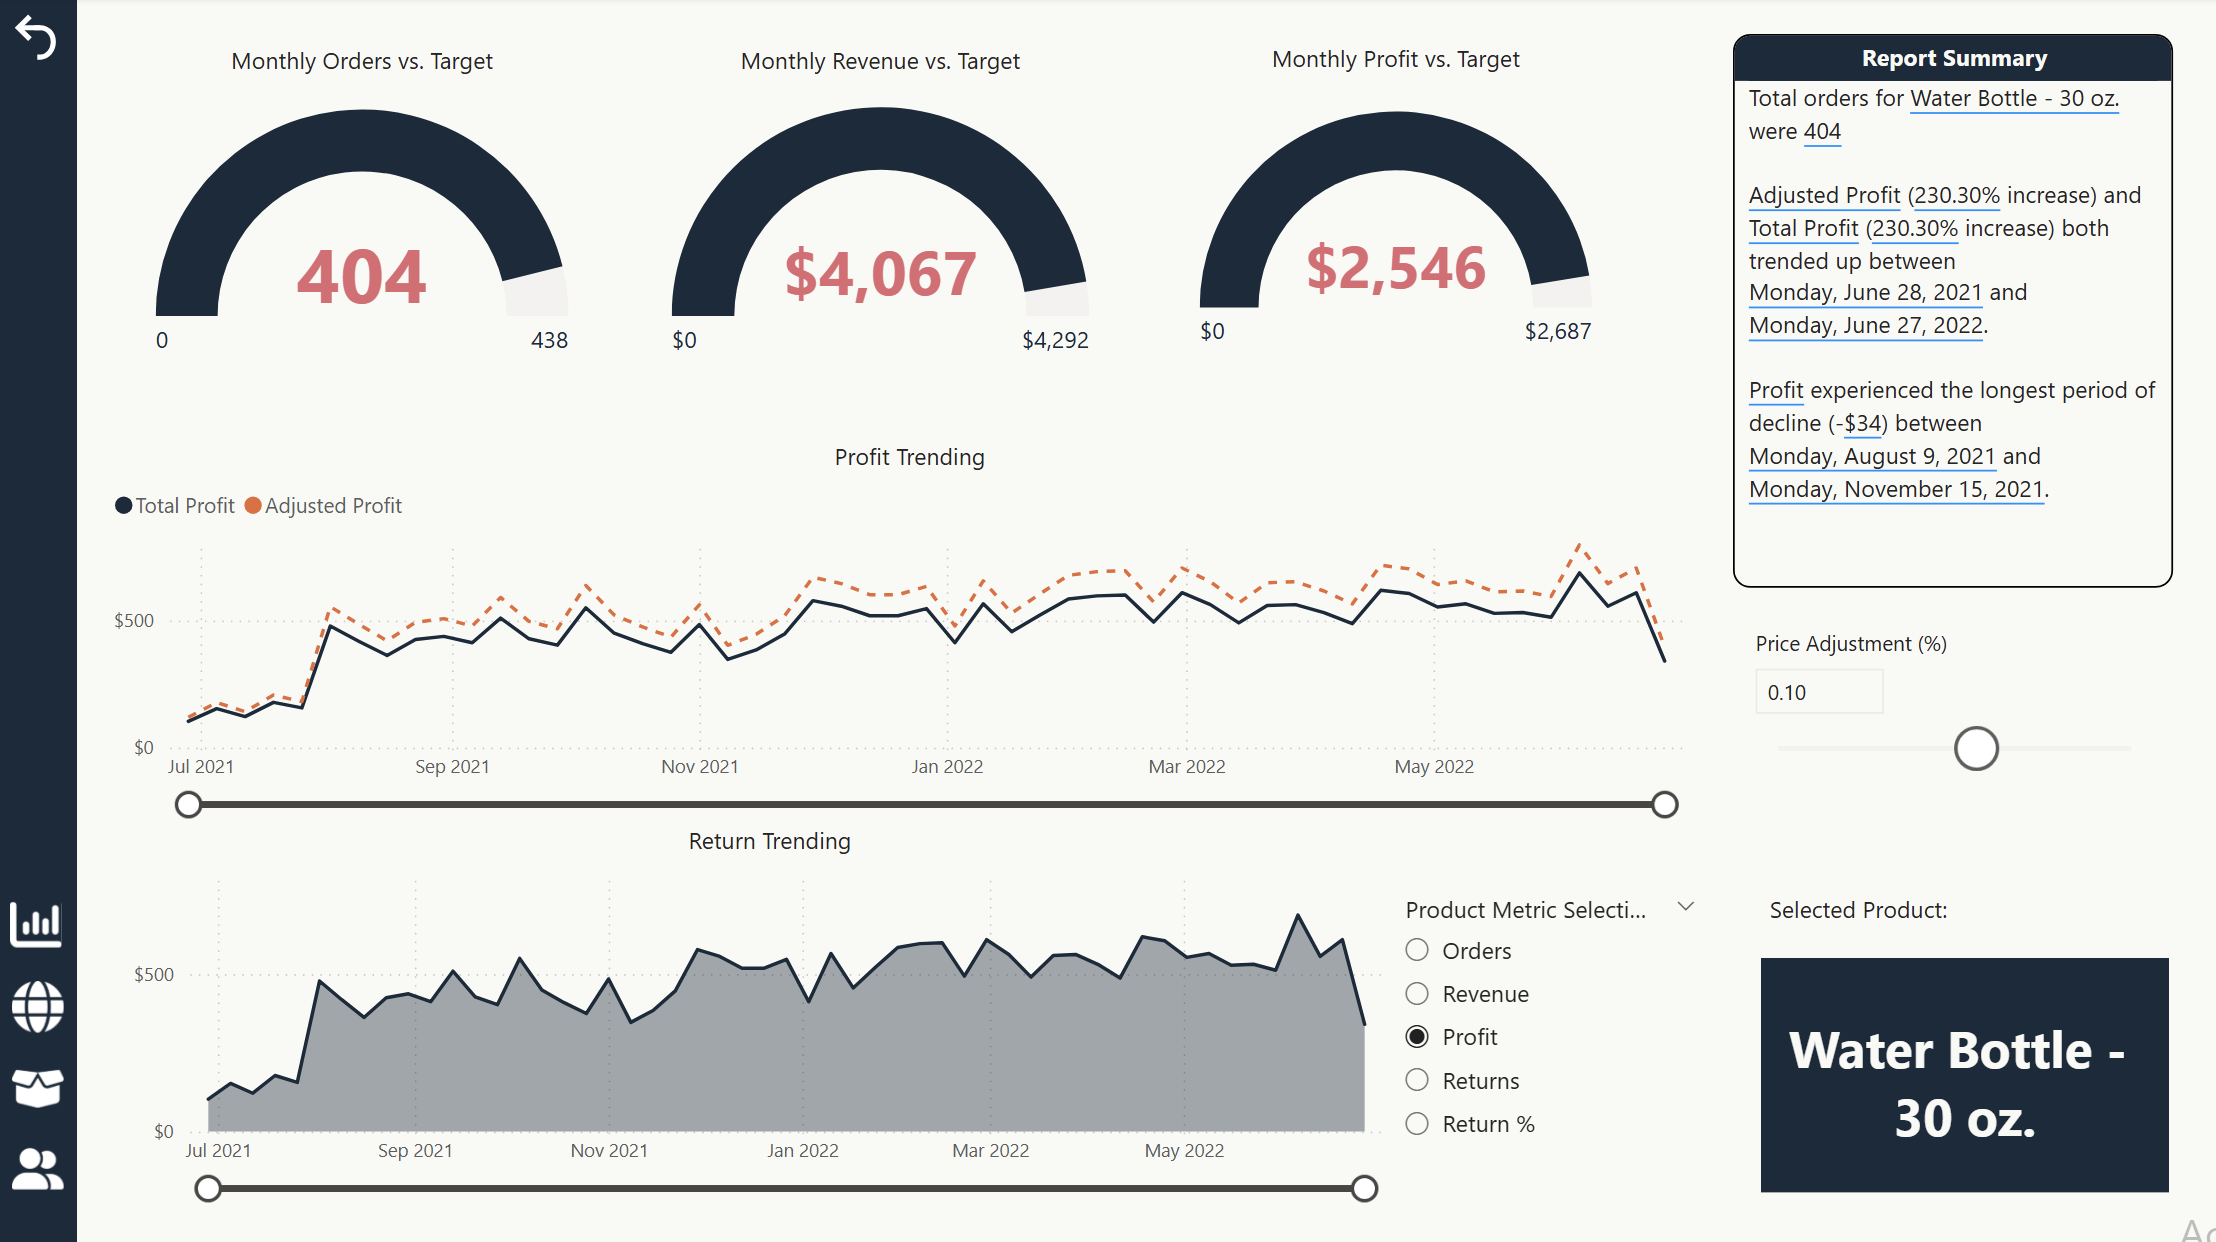

This screenshot's page, from the dashboard's own definition file:
{"tool":"powerbi","page":{"name":"Product Detail","canvas":[1280,720],"ordinal":2},"visuals":[{"type":"shape","box":[0,0.2,1280,719.8],"z":0},{"type":"actionButton","box":[2.5,516.7,45.6,37.8],"z":0,"group":"g1"},{"type":"shape","box":[0,0,45,720],"z":1000},{"type":"actionButton","box":[3.3,563.4,45.6,37.8],"z":1000,"group":"g1"},{"type":"gauge","title":"Monthly Orders vs. Target","fields":{"Y":["Measure Table.Total Orders"],"MaxValue":["Measure Table.Order Target"]},"box":[85.7,27.7,247.8,204.3],"z":2000},{"type":"actionButton","box":[3.3,611.1,45.6,37.8],"z":2000,"group":"g1"},{"type":"gauge","title":"Monthly Revenue vs. Target","fields":{"Y":["Measure Table.Total Revenue"],"MaxValue":["Measure Table.Revenue Target"]},"box":[382.3,27.7,250.5,203],"z":3000},{"type":"actionButton","box":[3.3,657.8,45.6,37.8],"z":3000,"group":"g1"},{"type":"gauge","title":"Monthly Profit vs. Target","fields":{"Y":["Measure Table.Total Profit"],"MaxValue":["Measure Table.Profit Target"]},"box":[686.8,26.4,236,203],"z":4000},{"type":"lineChart","title":"Profit Trending","fields":{"Category":["Calendar Lookup.Date Hierarchy.Year","Calendar Lookup.Date Hierarchy.Start of Month","Calendar Lookup.Date Hierarchy.Start of Week","Calendar Lookup.Date Hierarchy.Date"],"Y":["Measure Table.Total Profit","Measure Table.Adjusted Profit"]},"box":[61.1,255.7,927.4,221.2],"z":5000},{"type":"areaChart","title":"Return Trending","fields":{"Y":["Measure Table.Total Profit"],"Category":["Calendar Lookup.Date Hierarchy.Year","Calendar Lookup.Date Hierarchy.Start of Month","Calendar Lookup.Date Hierarchy.Start of Week","Calendar Lookup.Date Hierarchy.Date"]},"box":[72.6,476.9,743,221.2],"z":6000},{"type":"card","fields":{"Values":["Min(Product Lookup.ProductName)"]},"box":[1014.9,554.1,235,134.8],"z":7000},{"type":"textbox","box":[1014.9,511.5,137.1,36.9],"z":8000},{"type":"group","id":"g1","title":"Navigation Buttons","box":[2.5,516.7,46.4,178.9],"z":9000},{"type":"slicer","fields":{"Values":["Price Adjustment (%).Price Adjustment (%)"]},"box":[999.2,359.9,253.1,123.9],"z":10000},{"type":"slicer","fields":{"Values":["Product Metric Selection.Product Metric Selection"]},"box":[797.5,511.5,192.5,180.6],"z":11000},{"type":"textbox","title":"Report Summary","box":[998.8,21.9,253.4,319.1],"z":12000},{"type":"actionButton","box":[3.3,5.6,35.6,35.6],"z":12001}]}

Visuals, with their boxes on the page's 1280x720 design canvas (x1, y1, x2, y2). These are canvas units, not pixel positions in the 2216x1242 screenshot, which may show the page scaled, cropped or inside an application window:
shape: {"left": 0, "top": 0, "right": 1280, "bottom": 720}
actionButton: {"left": 2, "top": 517, "right": 48, "bottom": 554}
shape: {"left": 0, "top": 0, "right": 45, "bottom": 720}
actionButton: {"left": 3, "top": 563, "right": 49, "bottom": 601}
"Monthly Orders vs. Target" gauge: {"left": 86, "top": 28, "right": 334, "bottom": 232}
actionButton: {"left": 3, "top": 611, "right": 49, "bottom": 649}
"Monthly Revenue vs. Target" gauge: {"left": 382, "top": 28, "right": 633, "bottom": 231}
actionButton: {"left": 3, "top": 658, "right": 49, "bottom": 696}
"Monthly Profit vs. Target" gauge: {"left": 687, "top": 26, "right": 923, "bottom": 229}
"Profit Trending" lineChart: {"left": 61, "top": 256, "right": 988, "bottom": 477}
"Return Trending" areaChart: {"left": 73, "top": 477, "right": 816, "bottom": 698}
card - Min(Product Lookup.ProductName): {"left": 1015, "top": 554, "right": 1250, "bottom": 689}
textbox: {"left": 1015, "top": 512, "right": 1152, "bottom": 548}
"Navigation Buttons" group: {"left": 2, "top": 517, "right": 49, "bottom": 696}
slicer - Price Adjustment (%).Price Adjustment (%): {"left": 999, "top": 360, "right": 1252, "bottom": 484}
slicer - Product Metric Selection.Product Metric Selection: {"left": 798, "top": 512, "right": 990, "bottom": 692}
"Report Summary" textbox: {"left": 999, "top": 22, "right": 1252, "bottom": 341}
actionButton: {"left": 3, "top": 6, "right": 39, "bottom": 41}
